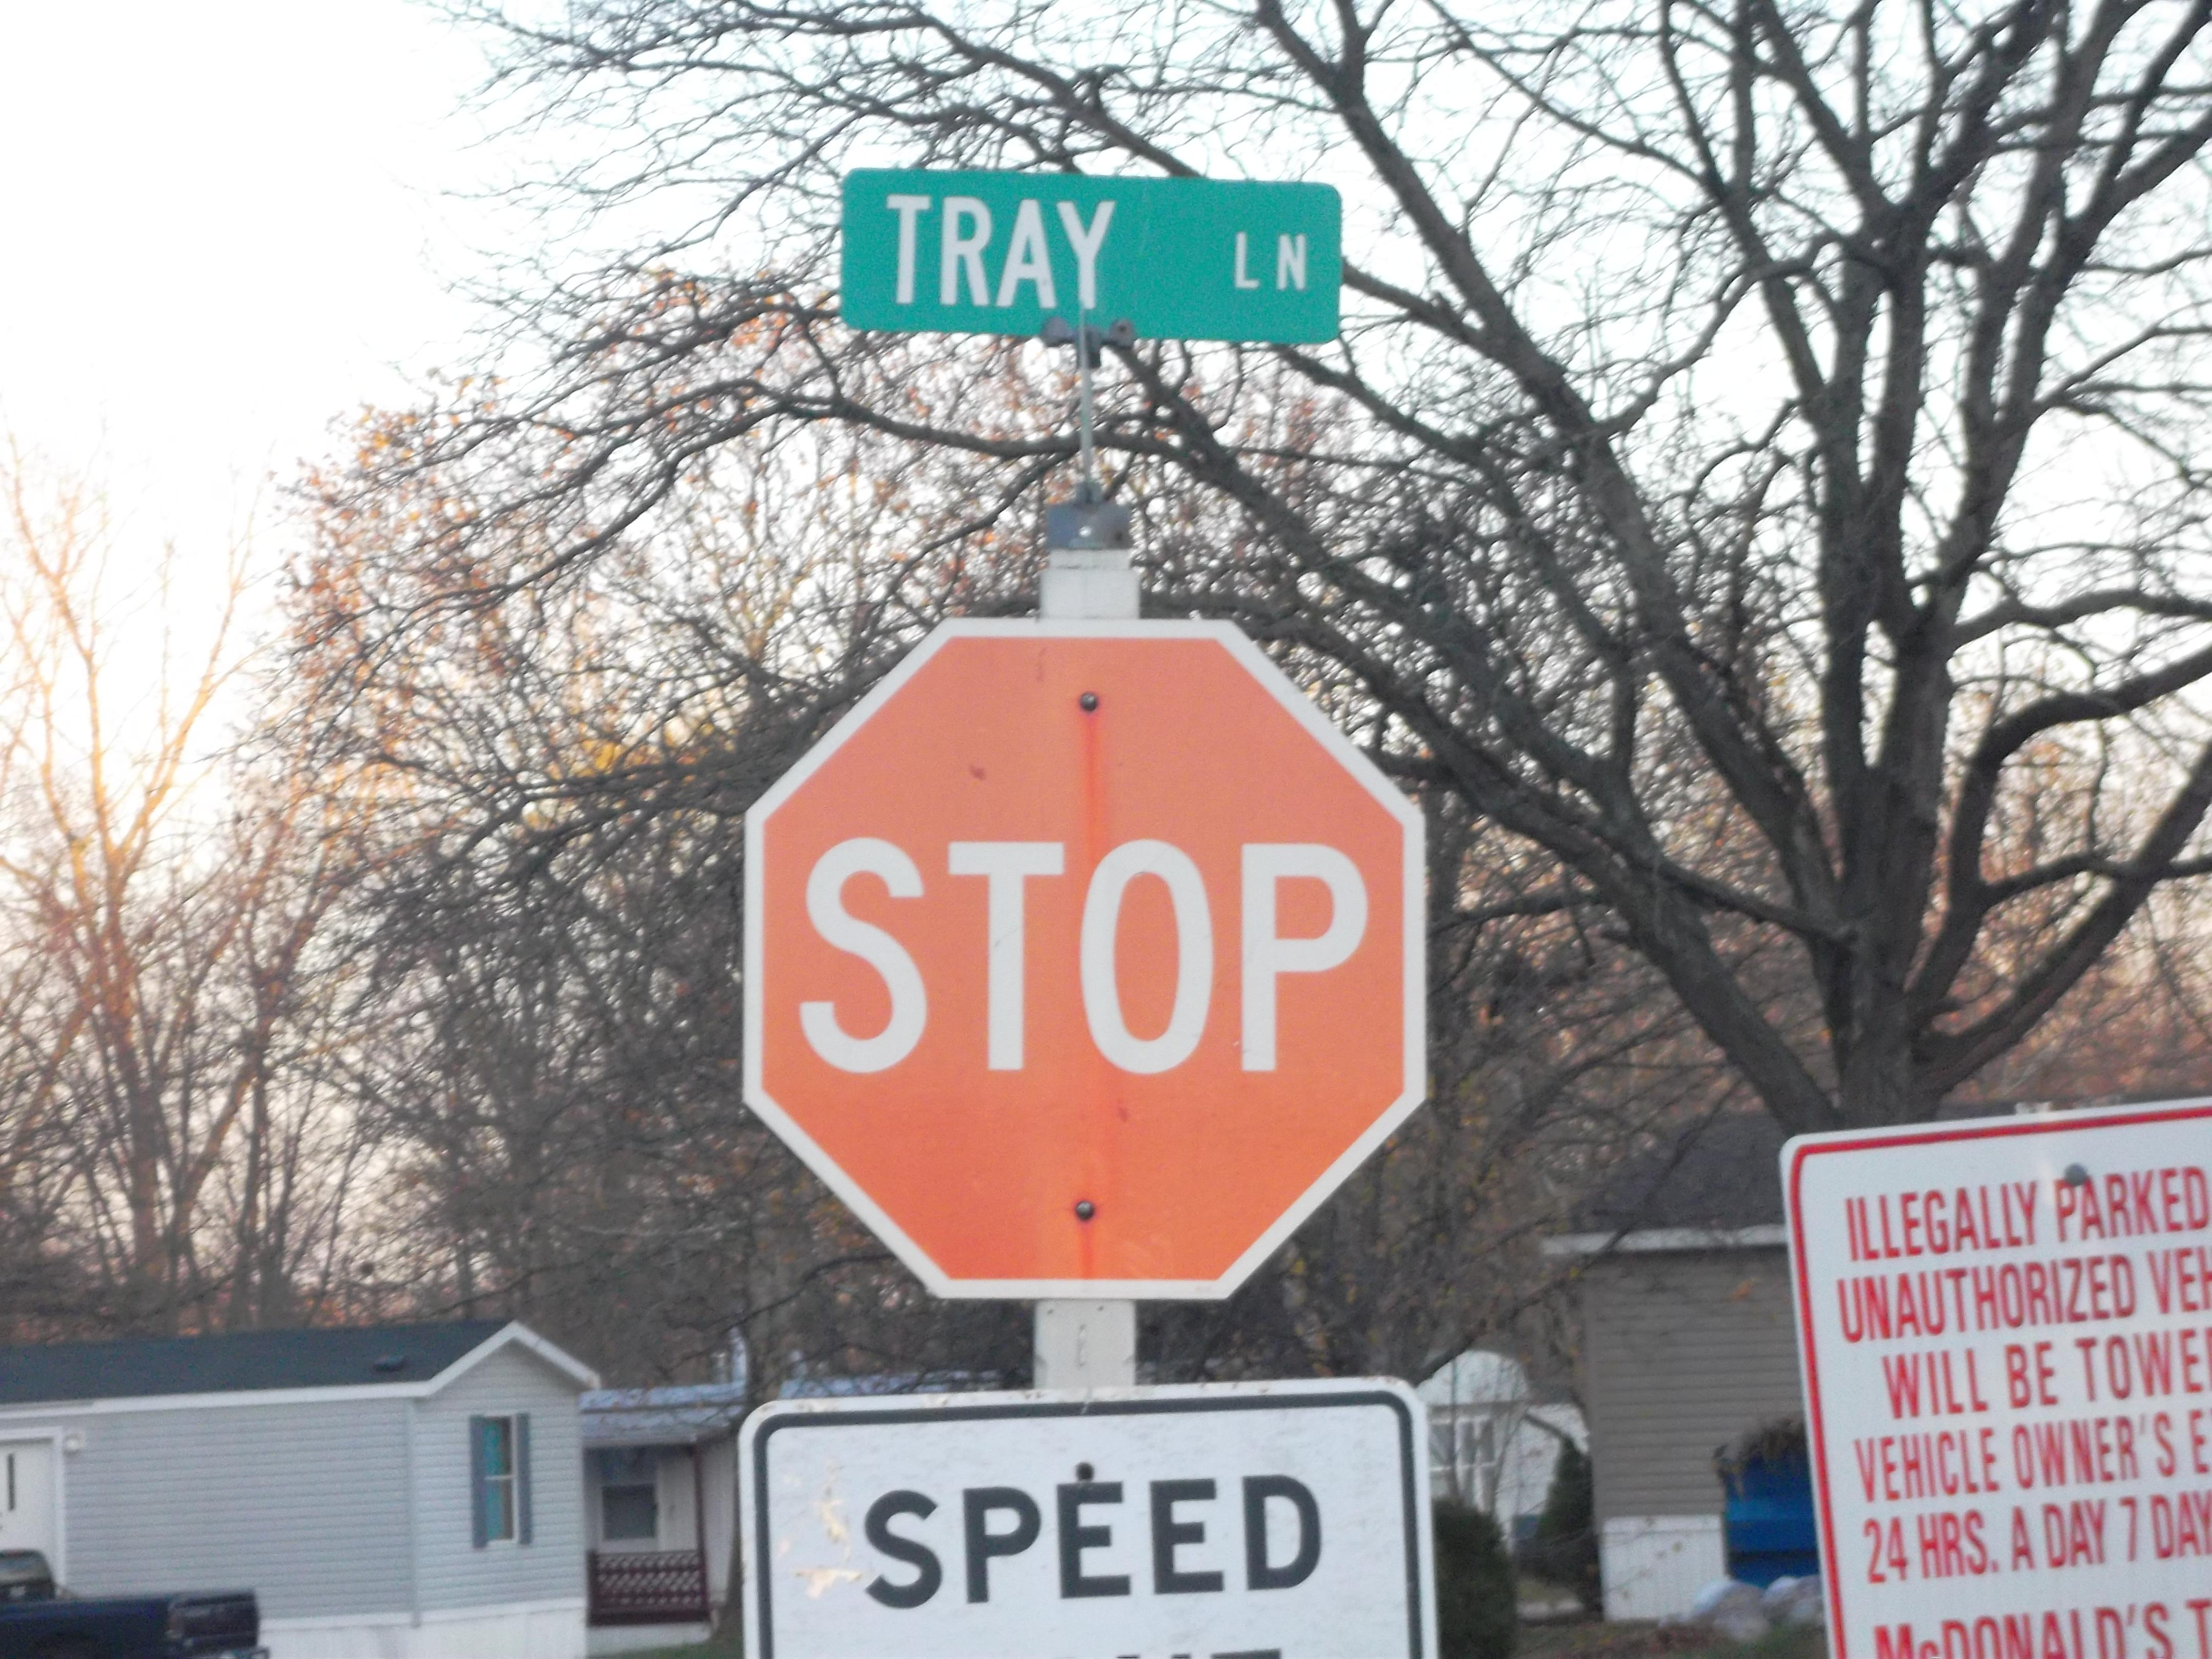regulatory: (733, 1378, 1449, 1659)
stop: (712, 592, 1463, 1319)
